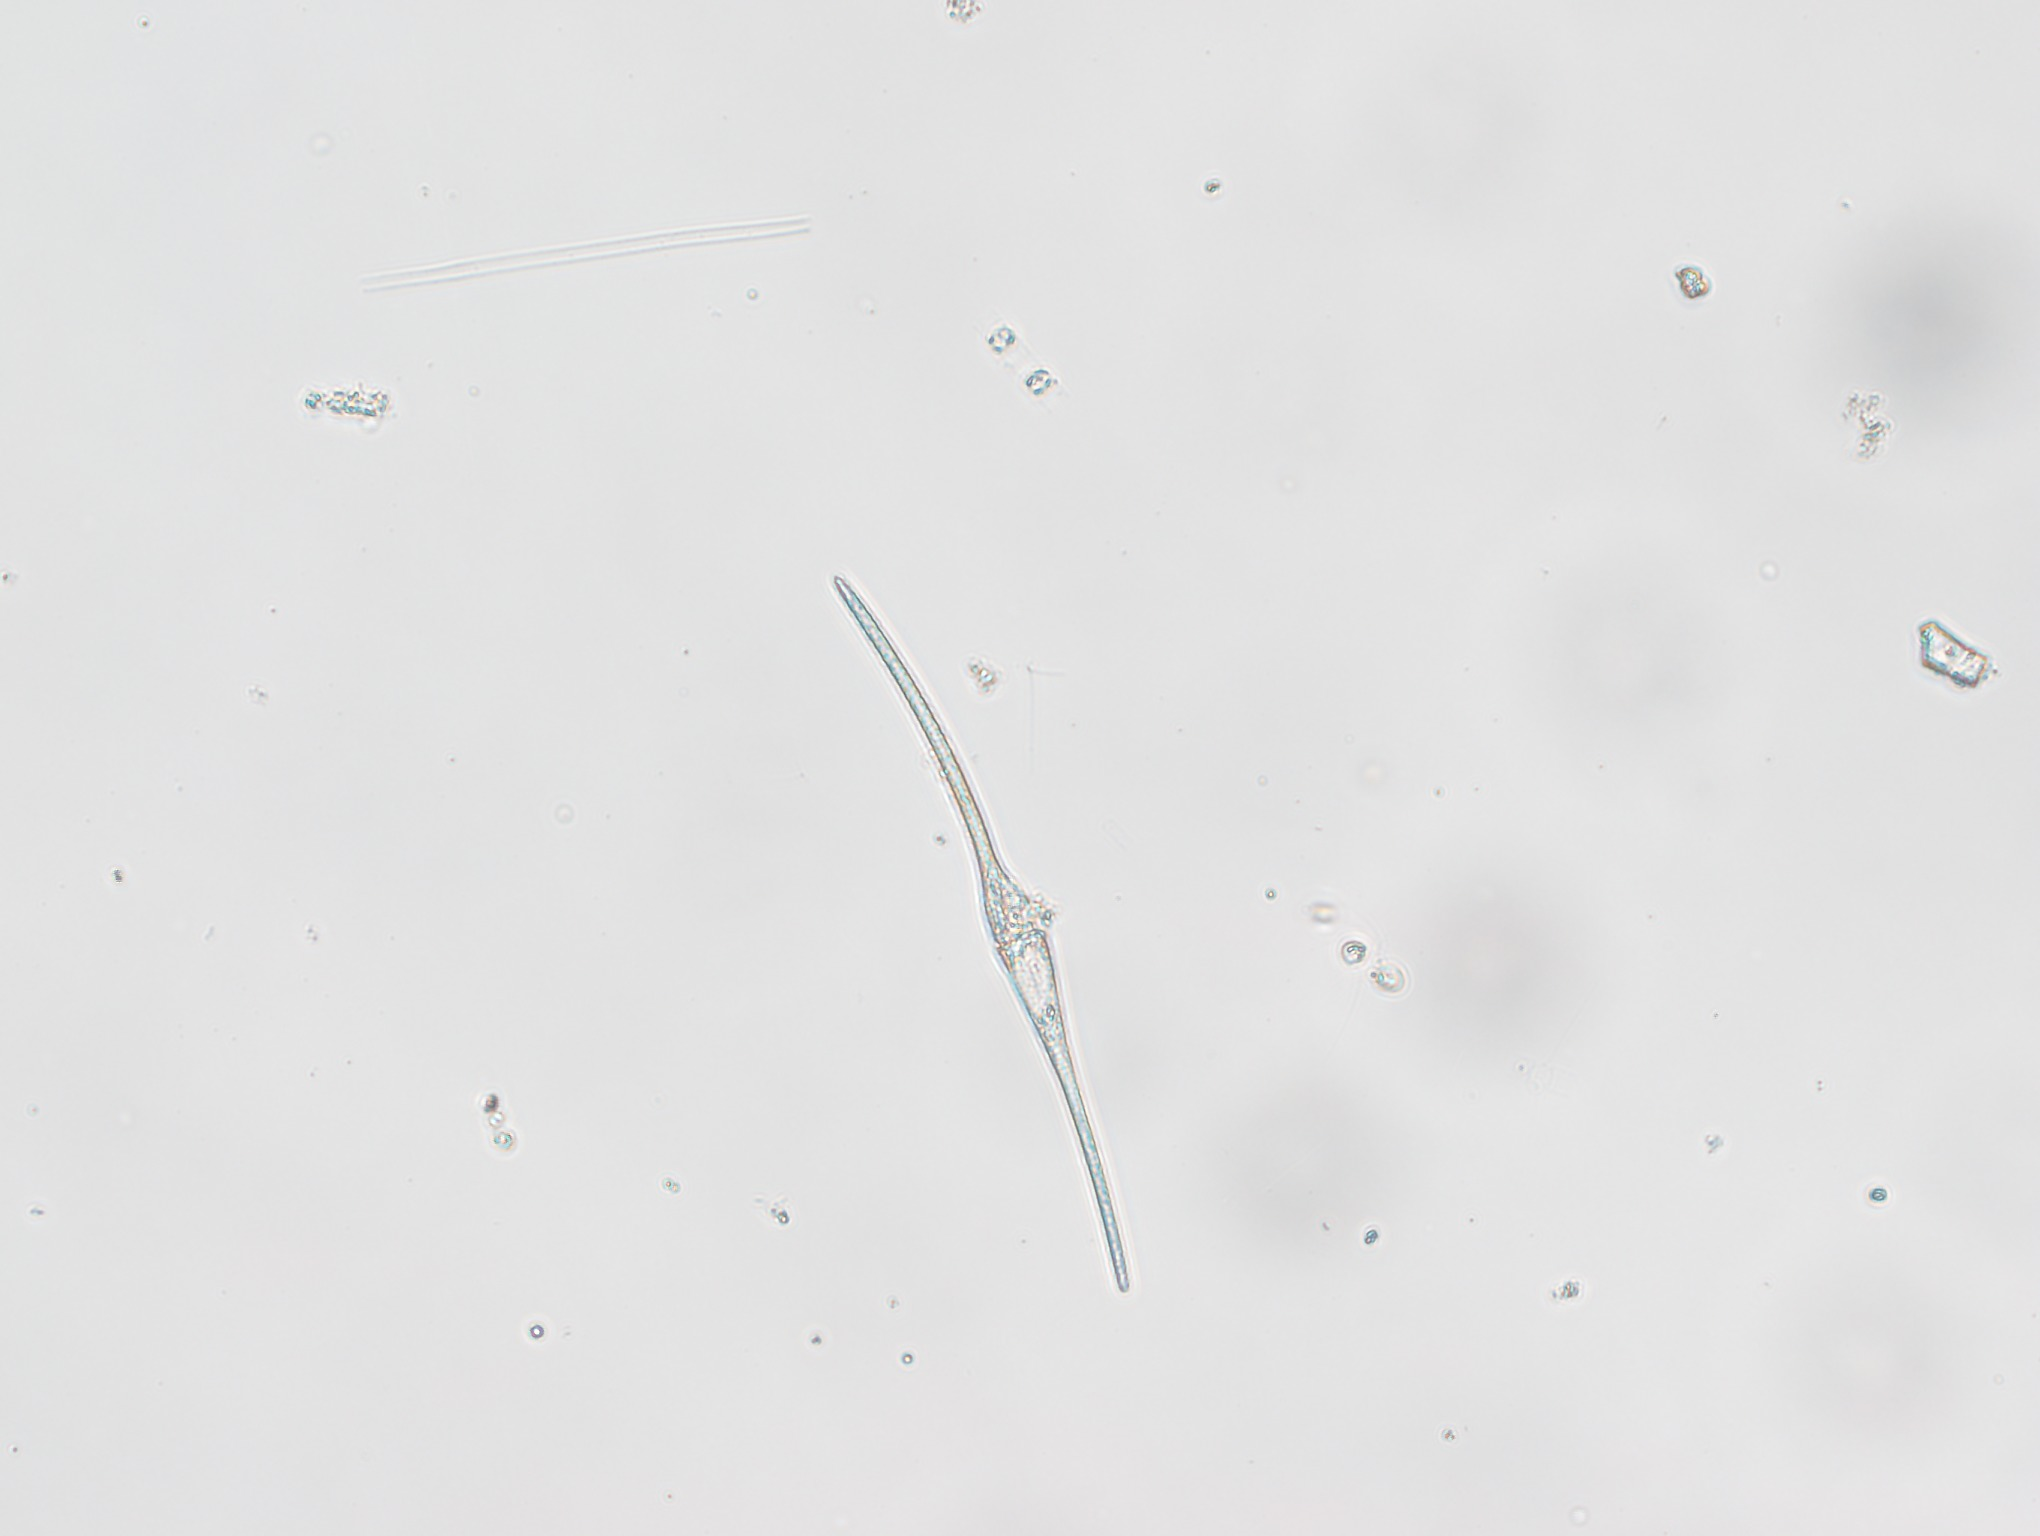ceratium fusus: (800, 566, 1159, 1312)
